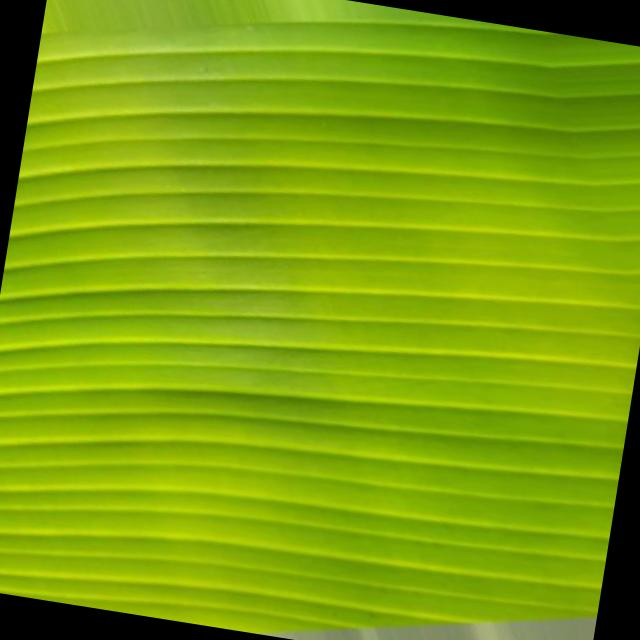Banana_Healthy: (92, 96, 530, 534)
